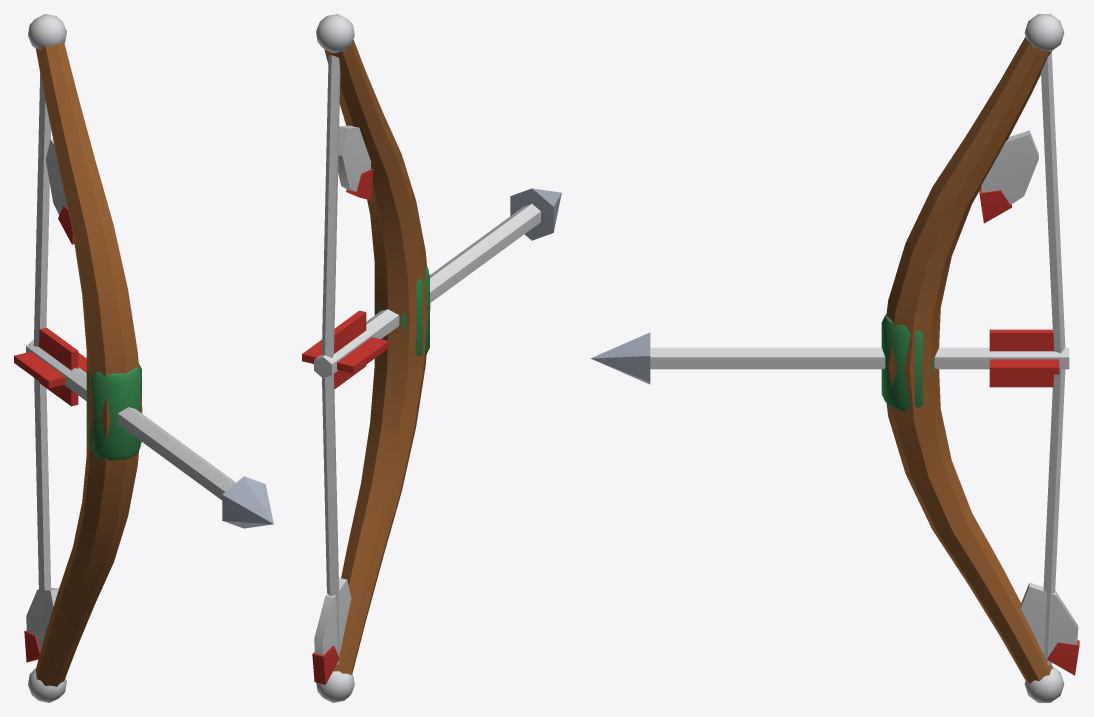
Rendered from w_y_longbow.glb.
3 views of the same model, side by side, from view 1: azimuth 30°, elevation 25°; view 2: azimuth 150°, elevation 25°; view 3: azimuth 270°, elevation 25° (orthographic).
Visible parts, largest first — view 1: body; view 2: body; view 3: body.
Part boxes in pixels (box(x1,y1,x2,y2)): body: box(14, 14, 273, 702); body: box(302, 14, 561, 702); body: box(590, 14, 1079, 702).
Bounding box in the file's own units: 0.102 × 1.29 × 0.8332.
